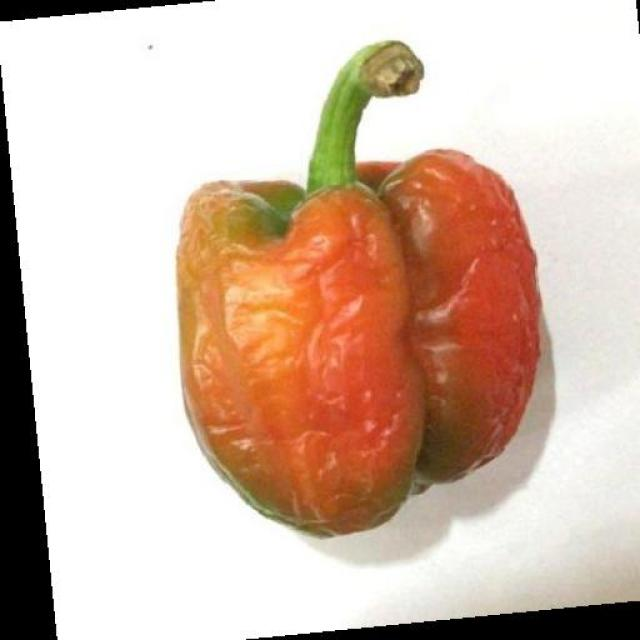Stale_Capsicum: (131, 45, 598, 528)
